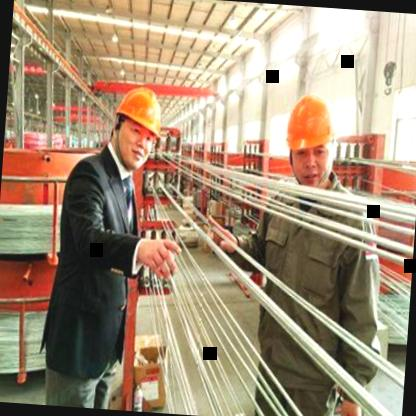helmet: (277, 90, 344, 192), (104, 83, 170, 174)
